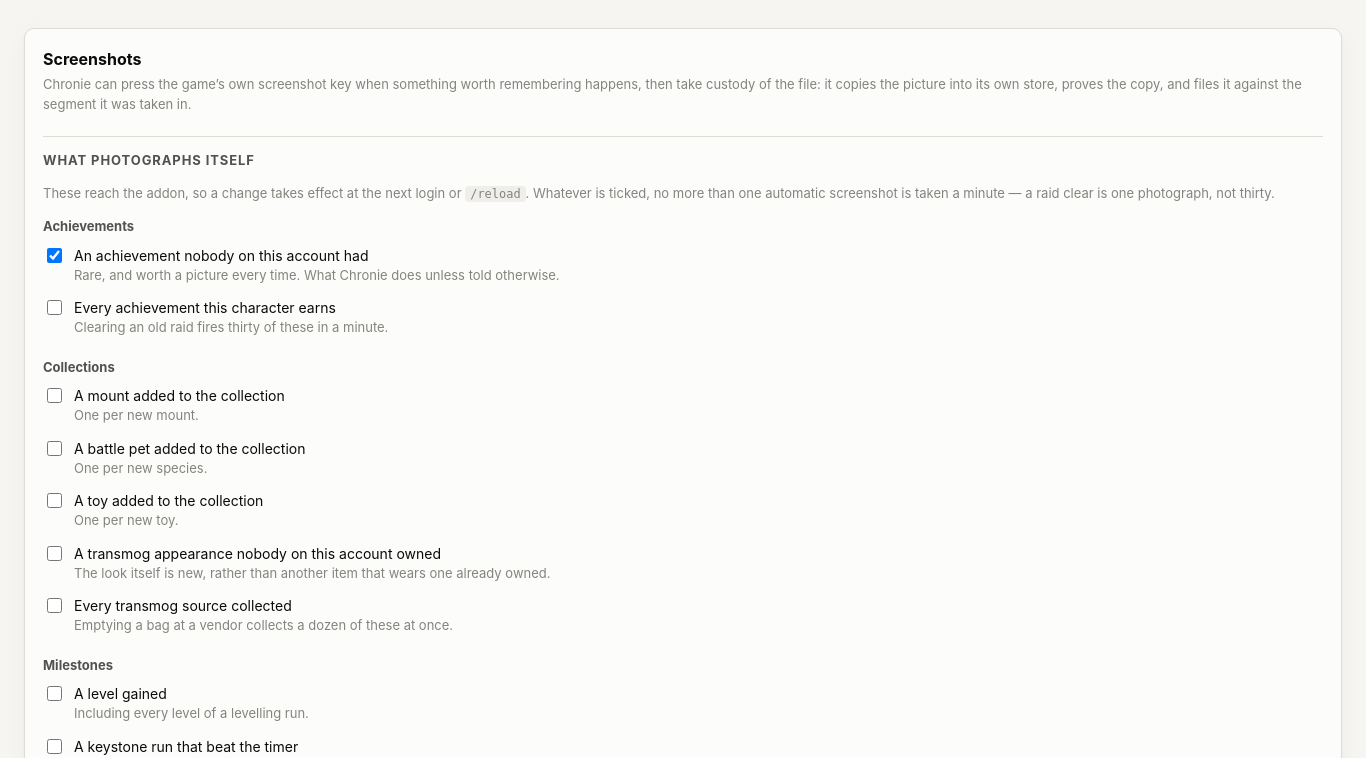
it: CapturePanel › says when a broader rule already covers a narrower one
This screenshot has width=1366, height=758.
Expected: the text "Already covered by" is not shown
Click the checkbox labelled "Every achievement this character earns". click: {"x": 54, "y": 308}
box: [47,300,62,315]
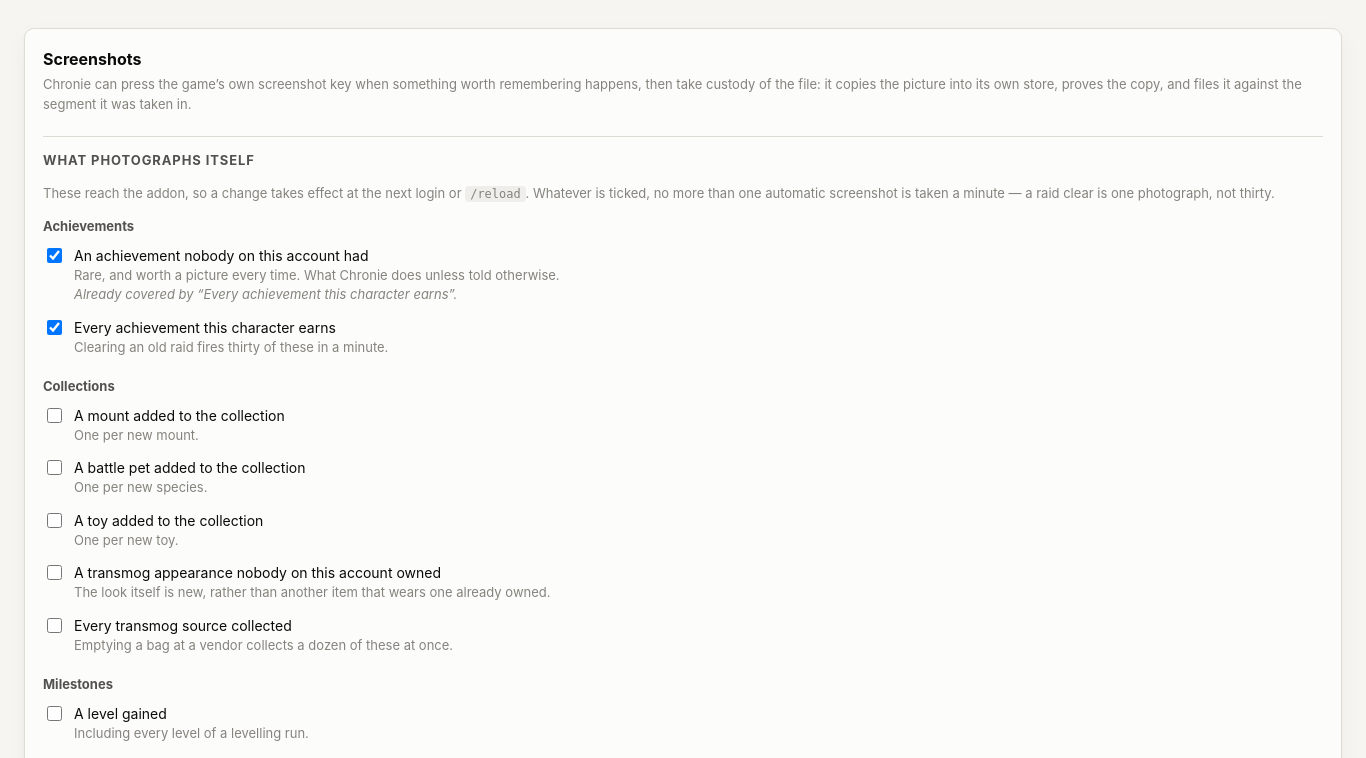
Expected: the checkbox labelled "An achievement nobody on this account had" is checked, [47,248,62,263]
Expected: the text "Already covered by “Every achievement this character earns”." is shown, [74,286,457,302]
